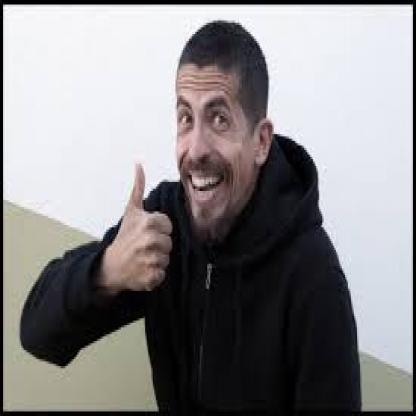thumb_up: (103, 157, 174, 296)
